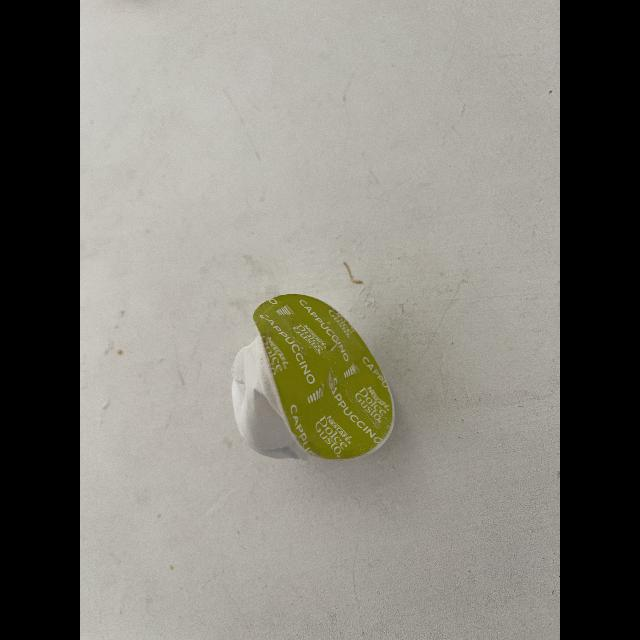damaged_capsule: (224, 294, 403, 472)
